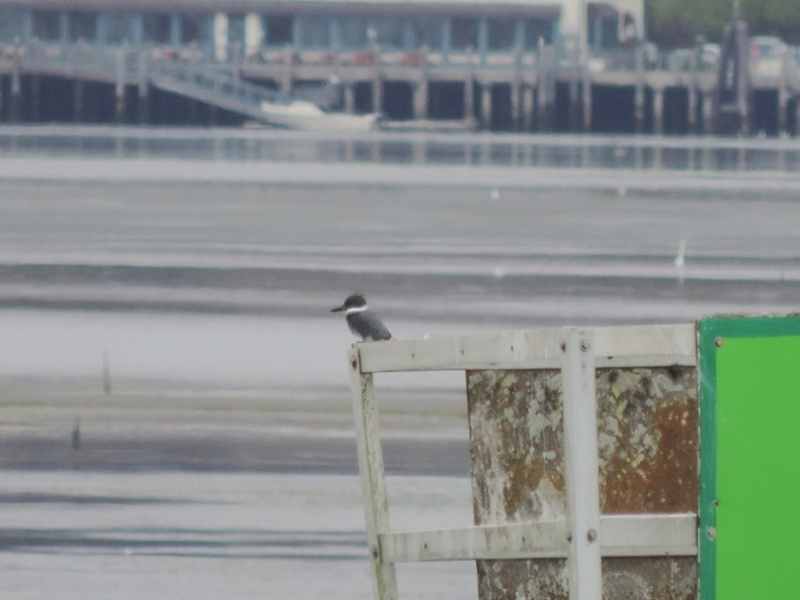kingfisher: (330, 295, 393, 341)
